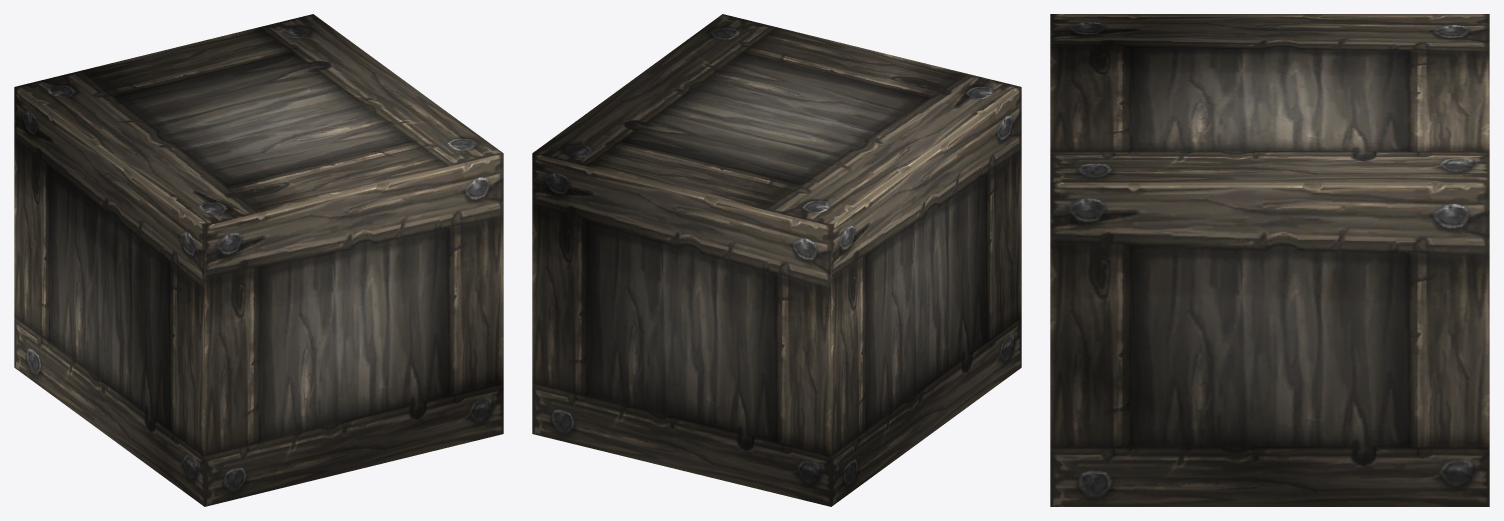
The model's file is karazahncrate01.obj.
3 renders of one model, left to right at view 1: azimuth 30°, elevation 25°; view 2: azimuth 150°, elevation 25°; view 3: azimuth 270°, elevation 25°, orthographic. The views are drawn at different scales.
Visible parts, largest first — view 1: karazahncrate01; view 2: karazahncrate01; view 3: karazahncrate01.
Boxes of the visible parts, x1,y1,x2,y2 form: karazahncrate01: (14, 14, 503, 506); karazahncrate01: (532, 14, 1021, 506); karazahncrate01: (1050, 14, 1489, 506).
Size of the model in its own units: 1.06 by 0.9496 by 1.17.
